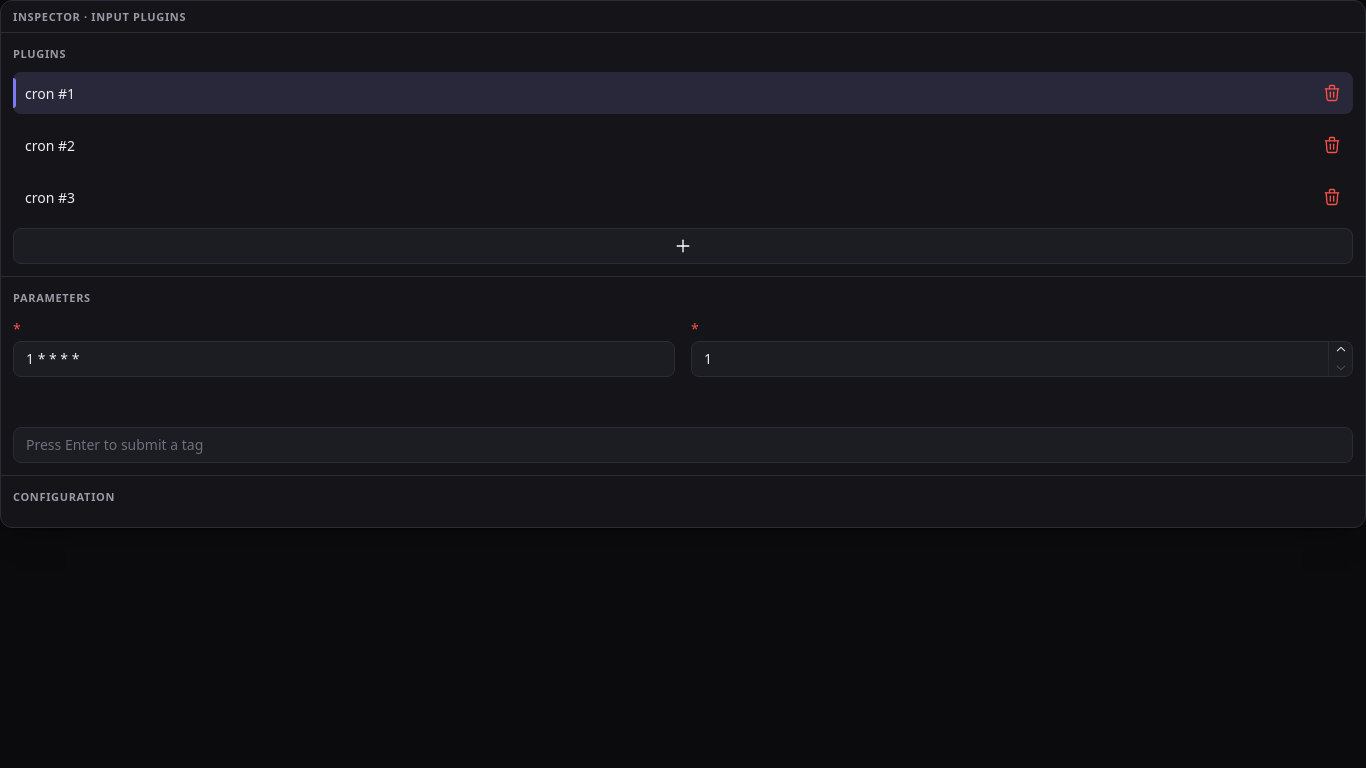
Scenario: InspectorPanel plugin deletion › keeps the selected plugin when an earlier one is deleted
Click the text "cron #2": (50, 145) [25,136,75,155]
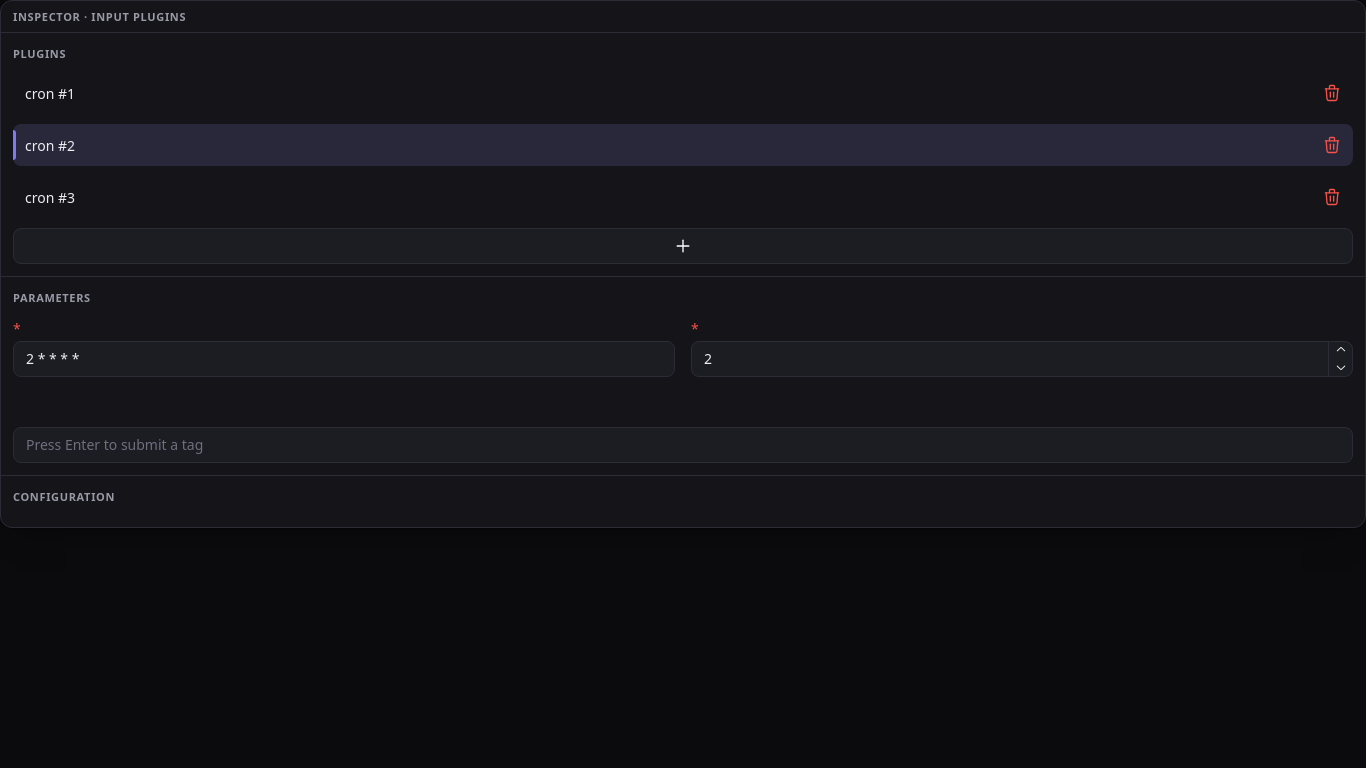
Expected: the 1st field with placeholder "cron expression" holds "2 * * * *", [13,341,675,377]
Click the button titled "Remove" in the row of "cron #1": (1332, 93) [1315,76,1349,110]
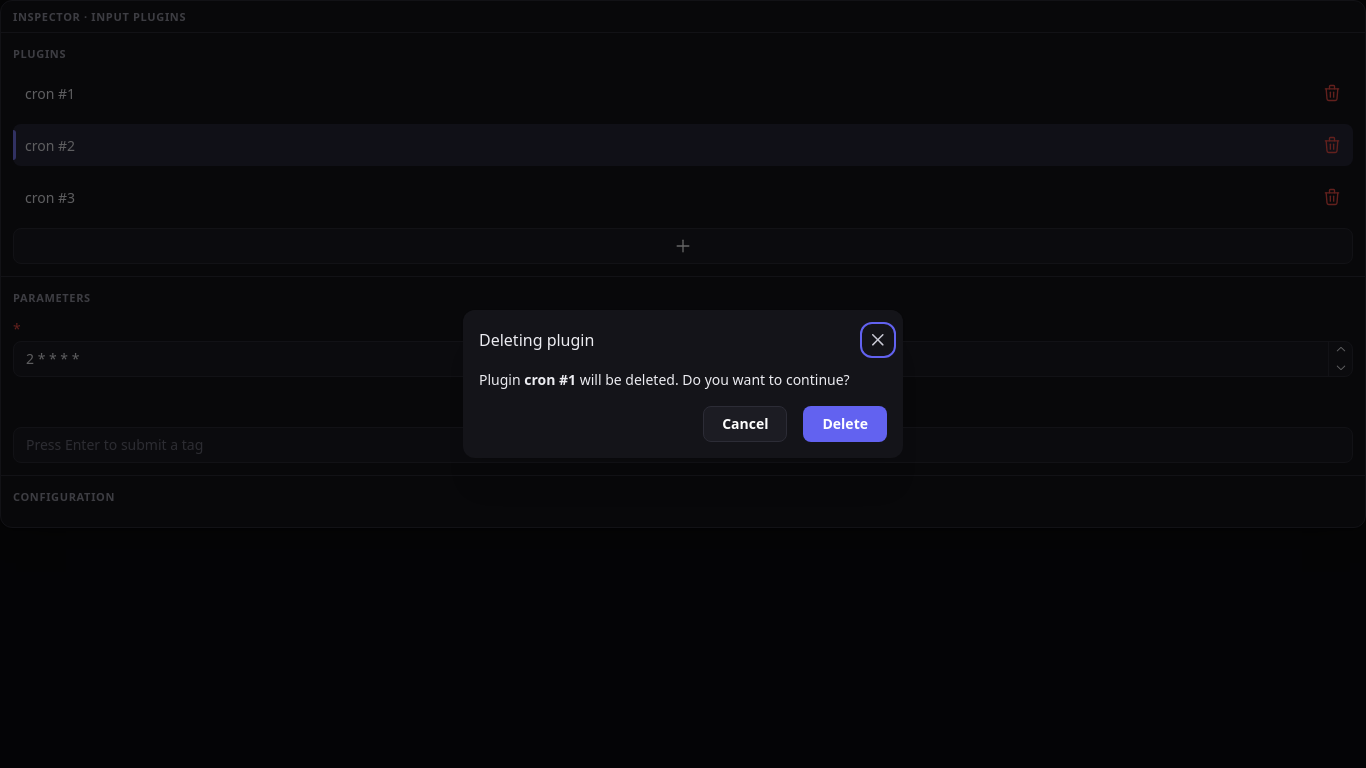
Click the button "Delete": (845, 424) [804,406,887,442]
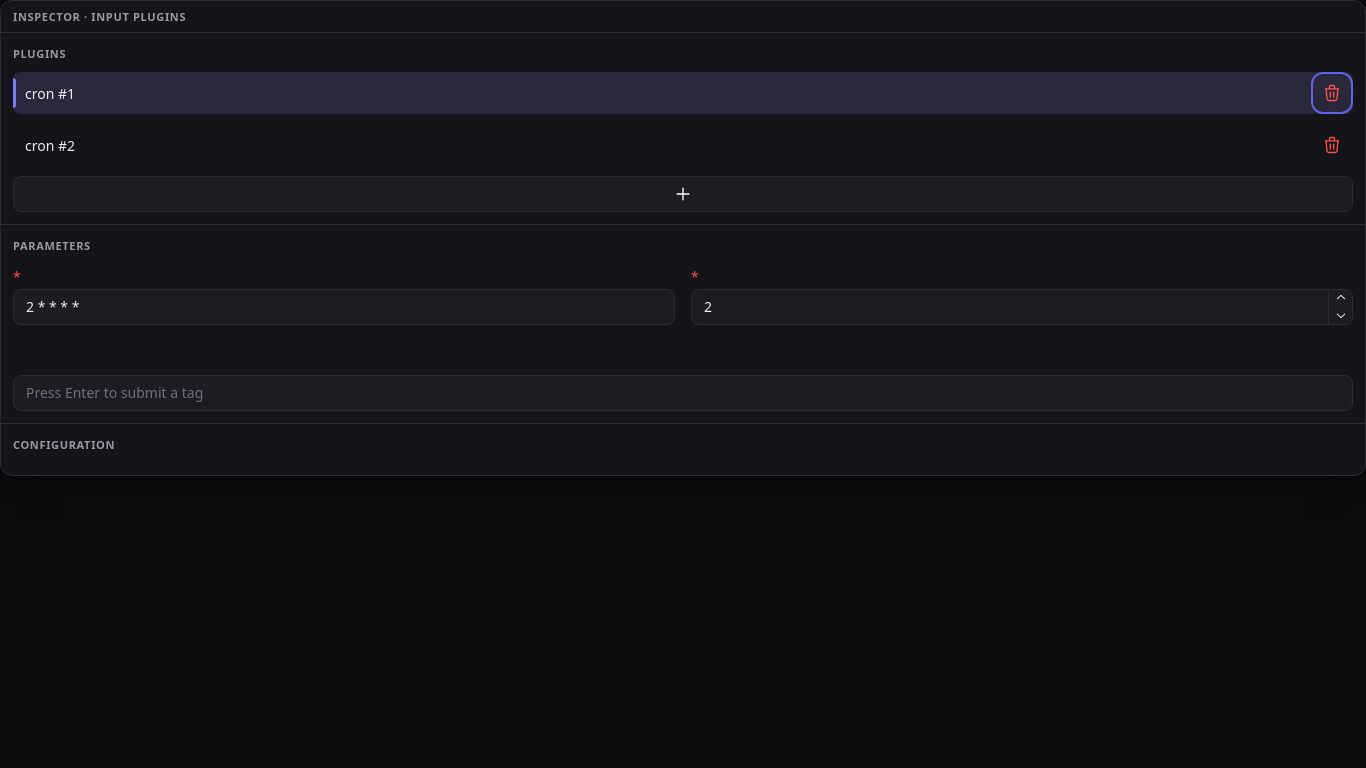
Expected: the text "cron #1" is shown, [25,84,75,103]
Expected: the 1st field with placeholder "cron expression" holds "2 * * * *", [13,289,675,325]
Expected: the text "delete" is gone
